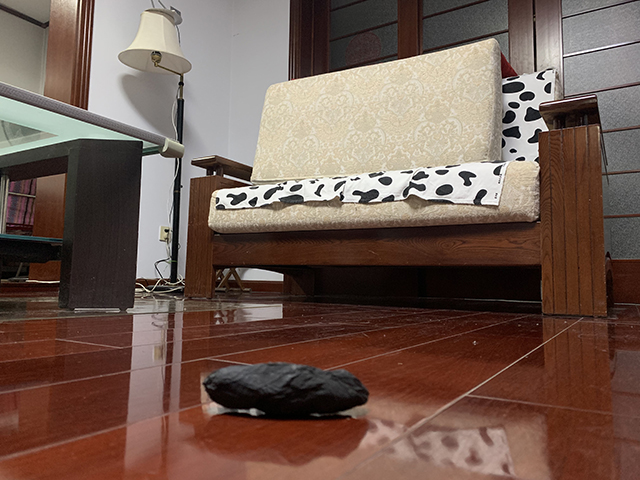feces: (201, 361, 371, 420)
sofa: (185, 35, 613, 318)
stool: (215, 268, 252, 296)
table: (1, 79, 186, 316)
wire: (22, 82, 187, 297)
